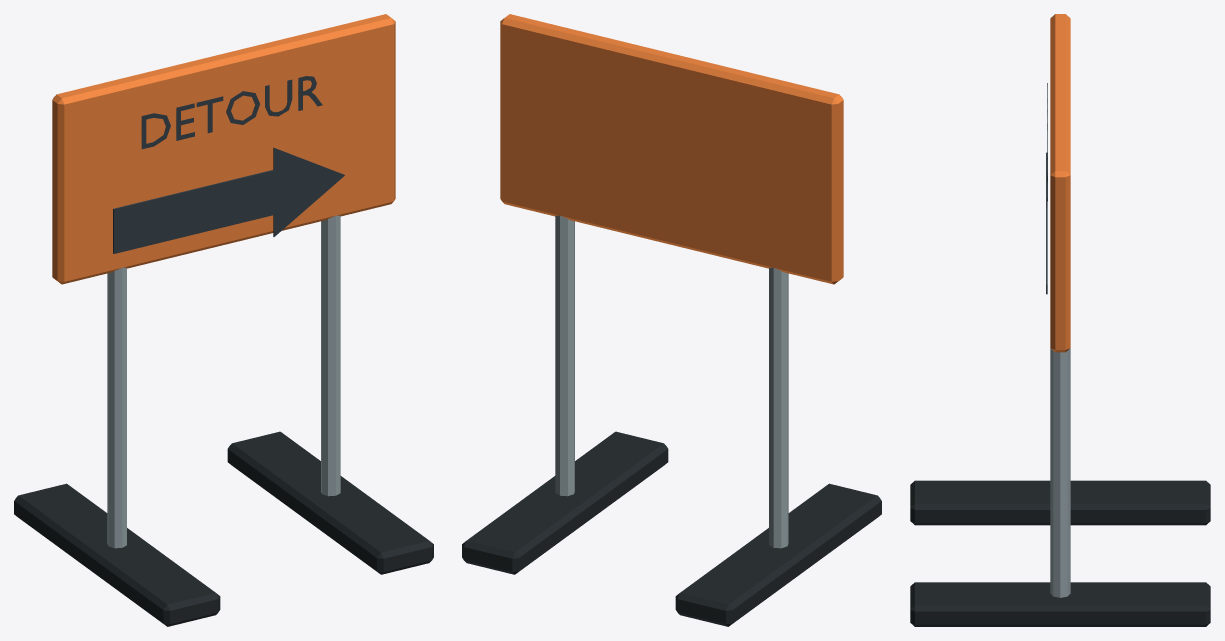
File: Detour_Sign_Stand.glb
The picture shows the model from 3 angles, left to right: view 1: azimuth 30°, elevation 25°; view 2: azimuth 150°, elevation 25°; view 3: azimuth 270°, elevation 25°; orthographic projection. The views are drawn at different scales.
Visible parts, largest first — view 1: Detour_Sign_Stand; view 2: Detour_Sign_Stand; view 3: Detour_Sign_Stand.
Boxes of the visible parts, bbox=[...] form: Detour_Sign_Stand: bbox=[14, 14, 433, 626]; Detour_Sign_Stand: bbox=[462, 14, 881, 626]; Detour_Sign_Stand: bbox=[910, 14, 1210, 626].
Bounding box in the file's own units: 0.95 × 1.3 × 0.75.
